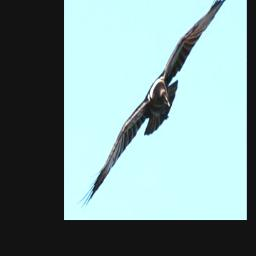Crow: (75, 0, 235, 211)
